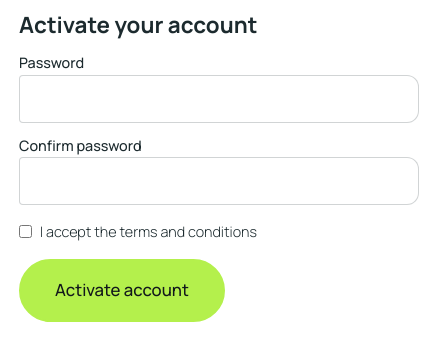
InviteActivationPage › blocks a password mismatch client-side
In the password field labelled "Password": (219, 99) [19, 75, 419, 123], type "password1"
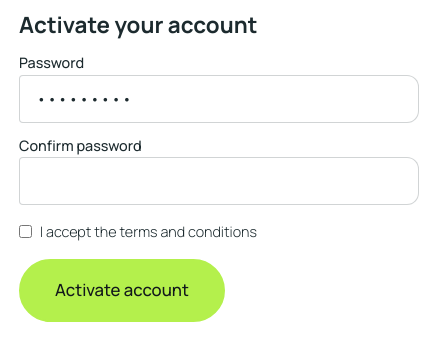
In the password field labelled "Confirm password": (219, 181) [19, 157, 419, 205], type "password2"
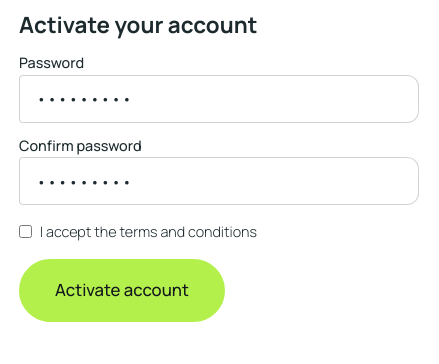
Click the checkbox labelled "I accept the terms and conditions": (26, 232) [19, 226, 32, 238]
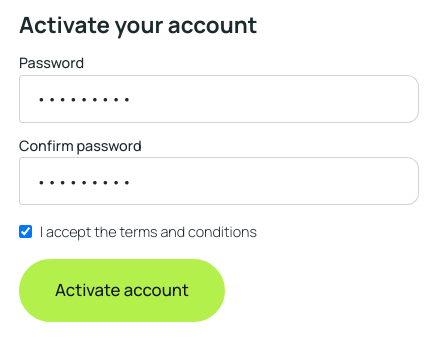
Click the button "Activate account": (122, 290) [19, 259, 225, 322]
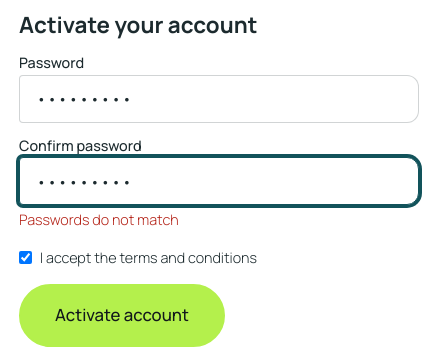
Now the text "Passwords do not match" is shown, box [19, 210, 179, 229]
